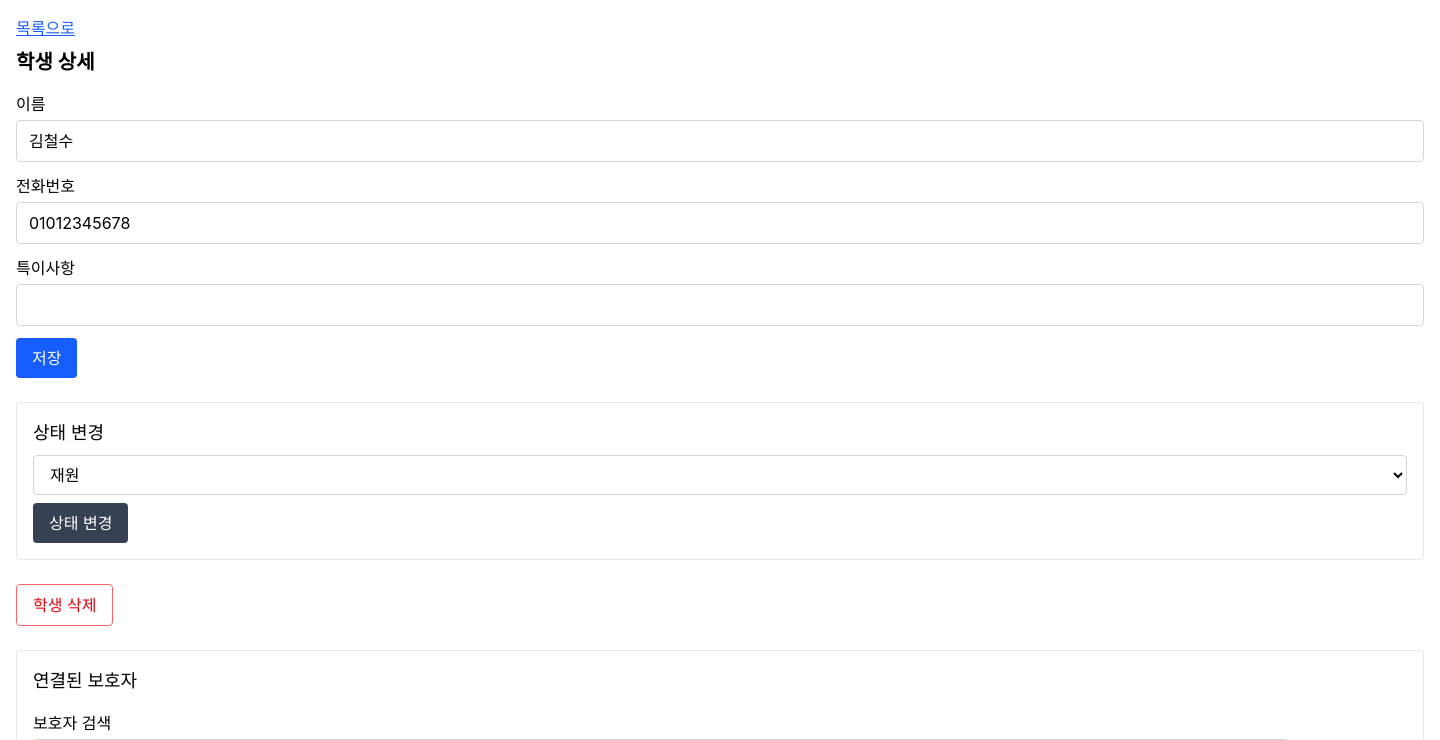
Test: StudentDetailPage › loads the full unmasked student and saves an edit
Expected: the field labelled "이름" holds "김철수", [16,120,1424,162]
In the field labelled "특이사항": {"x": 720, "y": 305} [16,284,1424,326], type "새 메모"
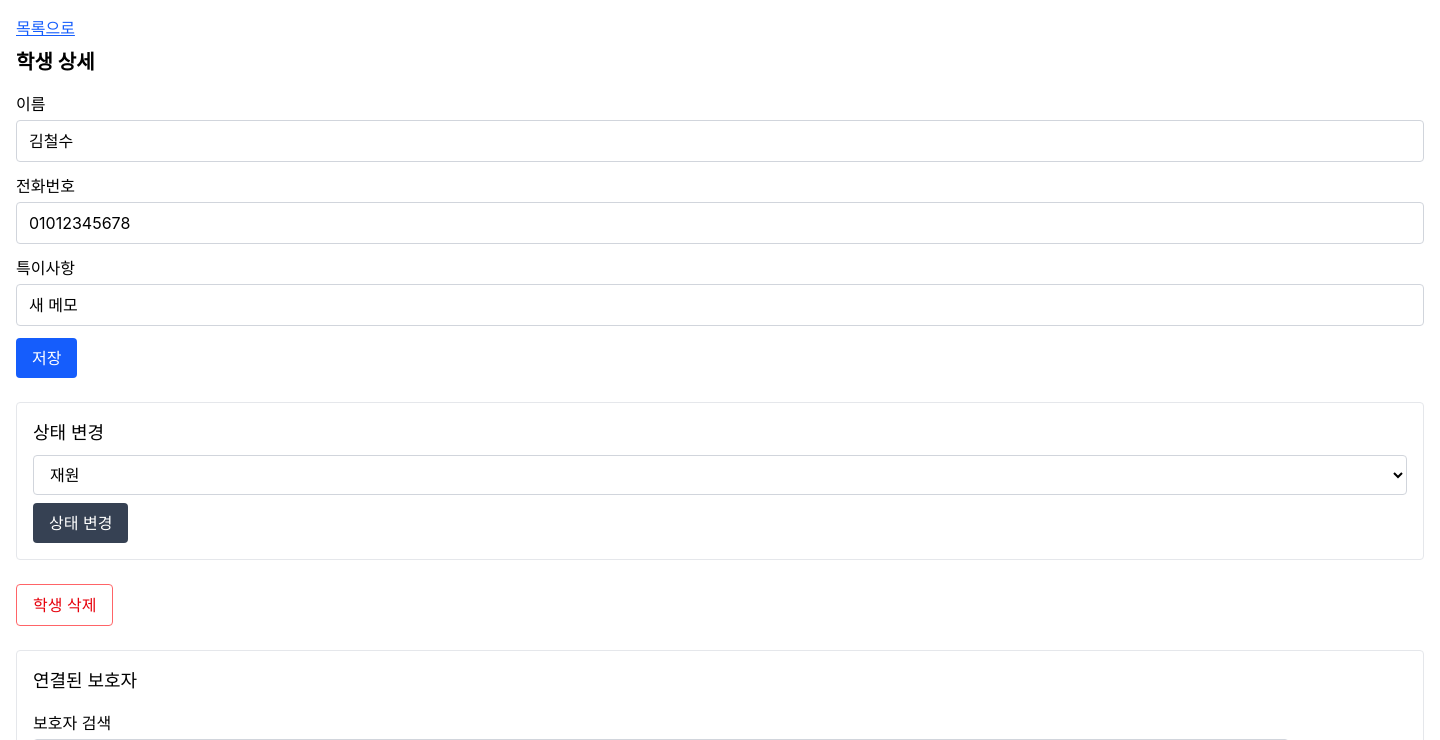
Click the button "저장": {"x": 47, "y": 358} [16,338,78,378]
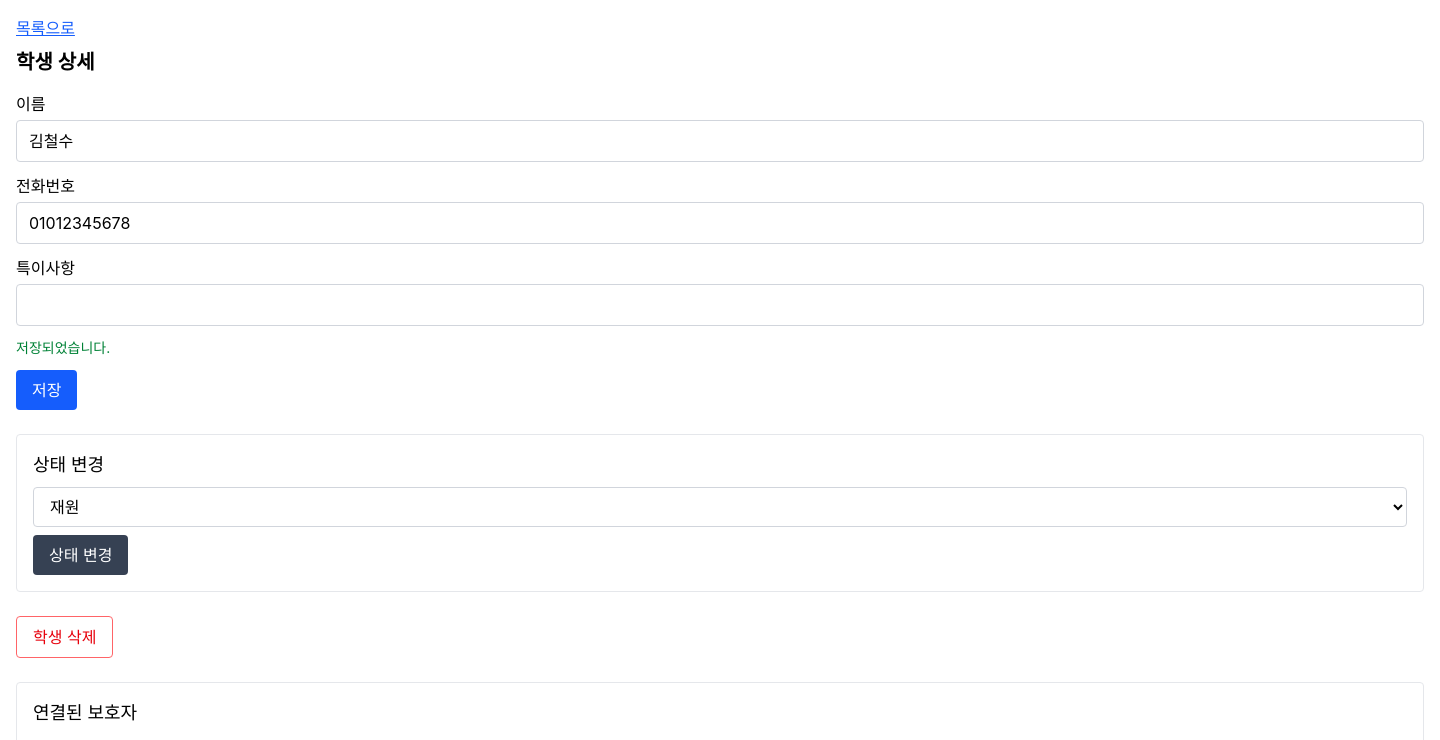
Expected: the text "저장되었습니다." is shown, [16,339,110,356]
